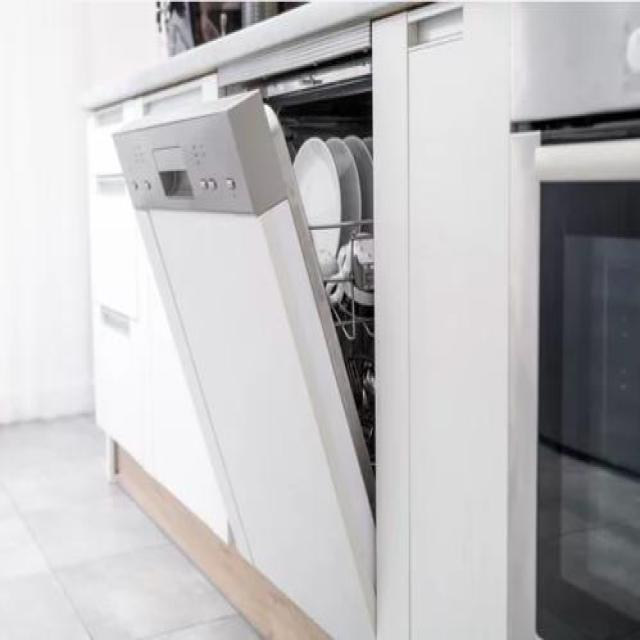dishwasher: (108, 18, 380, 638)
